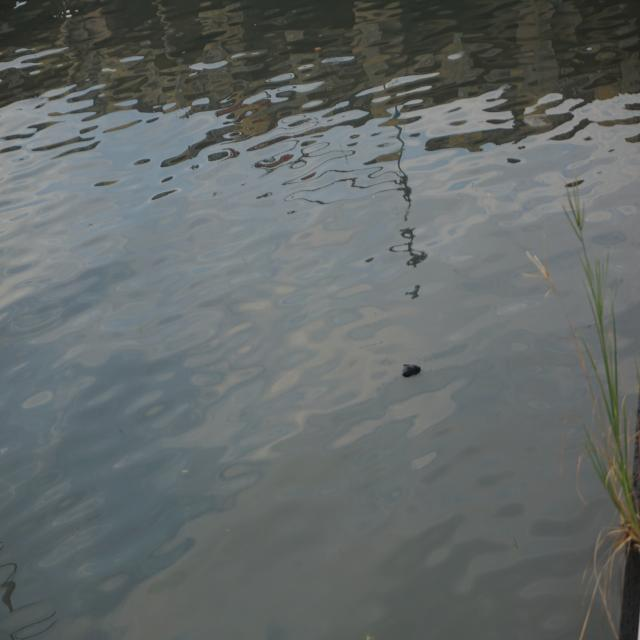Kantong Plastik: (401, 355, 425, 385)
